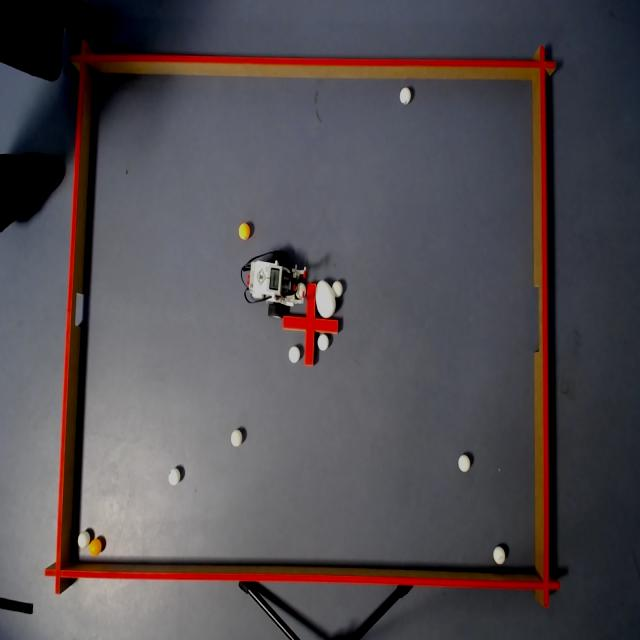boundaries: (44, 32, 98, 596), (42, 558, 564, 612), (70, 38, 558, 87), (529, 44, 563, 614)
cross: (282, 281, 340, 366)
egg: (314, 280, 338, 320)
large_goal: (524, 259, 560, 372)
orange_ball: (237, 218, 254, 243), (89, 537, 105, 558)
robot: (240, 246, 308, 316)
small_goal: (59, 272, 96, 345)
white_ball: (76, 527, 92, 551), (167, 466, 183, 490), (230, 425, 245, 450), (492, 544, 507, 565), (287, 344, 302, 365), (318, 332, 330, 354), (332, 278, 345, 298), (399, 86, 411, 107), (294, 280, 306, 300), (458, 454, 471, 471)
